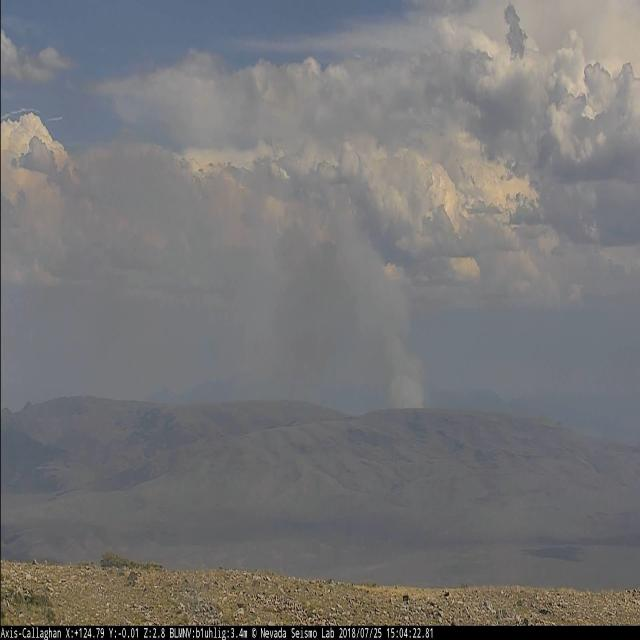smoke: (75, 145, 426, 404)
